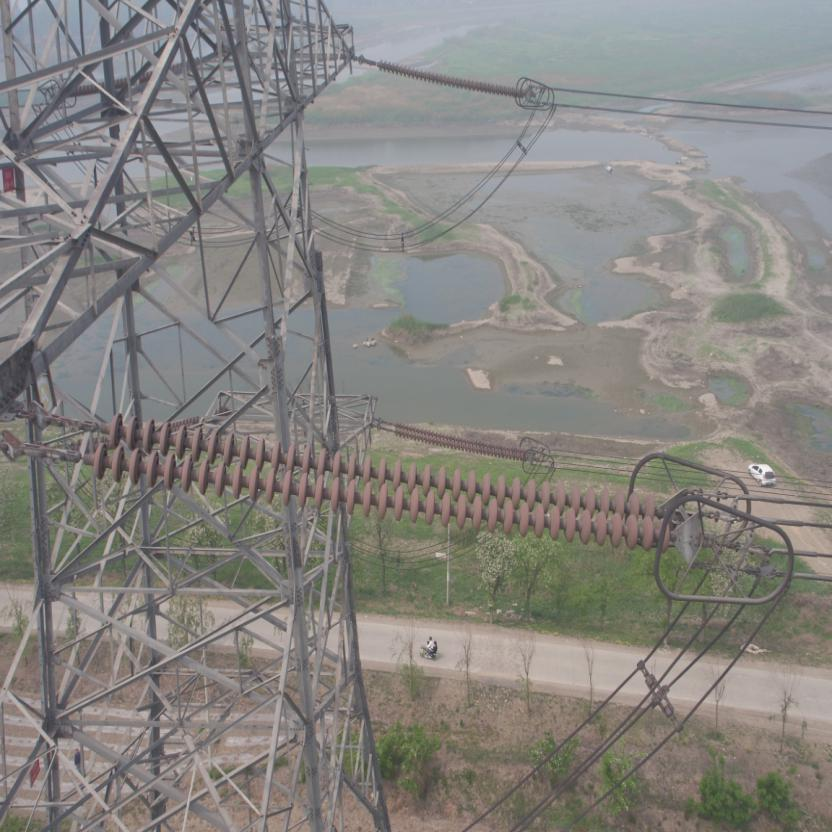insulator: (62, 408, 682, 554), (367, 52, 528, 103), (384, 416, 530, 462)
